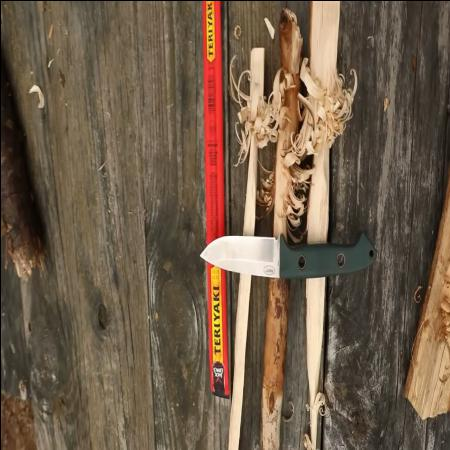long weapon: (186, 225, 306, 283)
